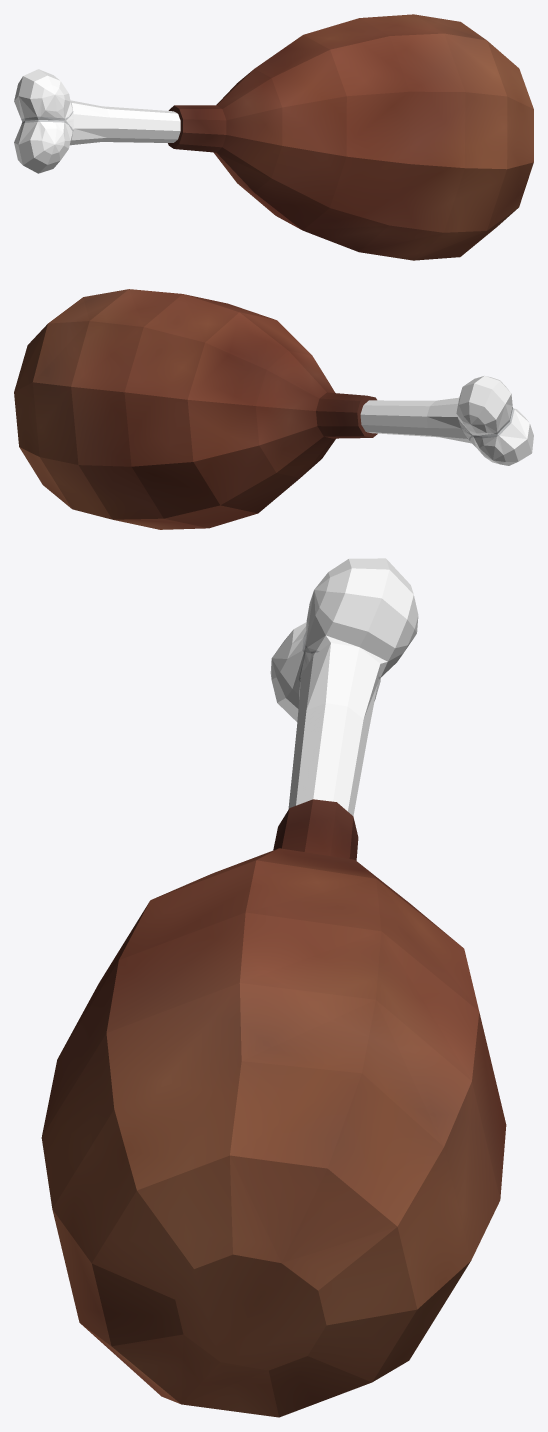
Rendered from TURKEY LEGRIGHT..fbx.
The picture shows the model from 3 angles, top to bottom: view 1: azimuth 30°, elevation 25°; view 2: azimuth 150°, elevation 25°; view 3: azimuth 270°, elevation 25°; orthographic projection. The views are drawn at different scales.
Parts seen in each view (by area): view 1: TURKEY_LEGRIGHT_; view 2: TURKEY_LEGRIGHT_; view 3: TURKEY_LEGRIGHT_.
Boxes of the visible parts, x1=… form: TURKEY_LEGRIGHT_: x1=14, y1=14, x2=533, y2=260; TURKEY_LEGRIGHT_: x1=14, y1=289, x2=533, y2=529; TURKEY_LEGRIGHT_: x1=41, y1=558, x2=506, y2=1417.
Bounding box in the file's own units: 32.43 × 15.31 × 13.43.
